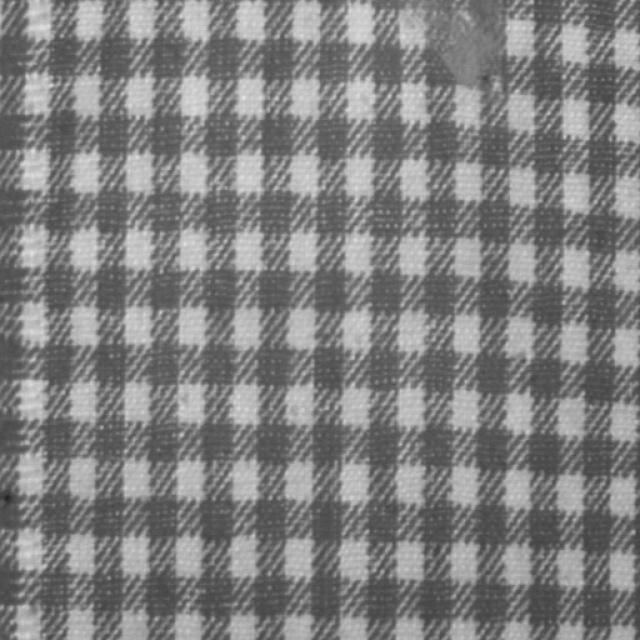Stain-Defect: (439, 0, 504, 85)
